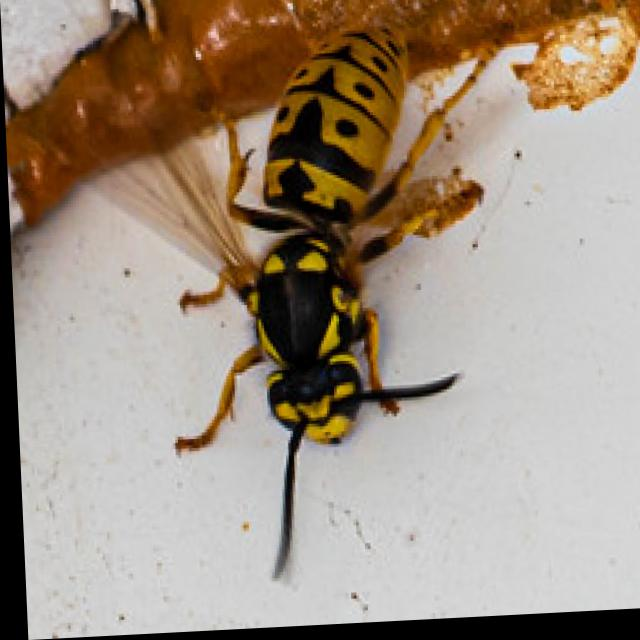Guepe: (51, 0, 539, 571)
